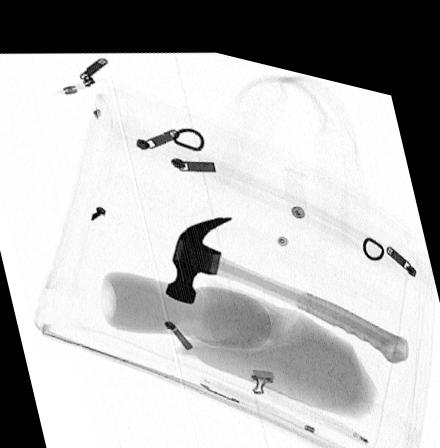Hammer: (164, 204, 409, 342)
